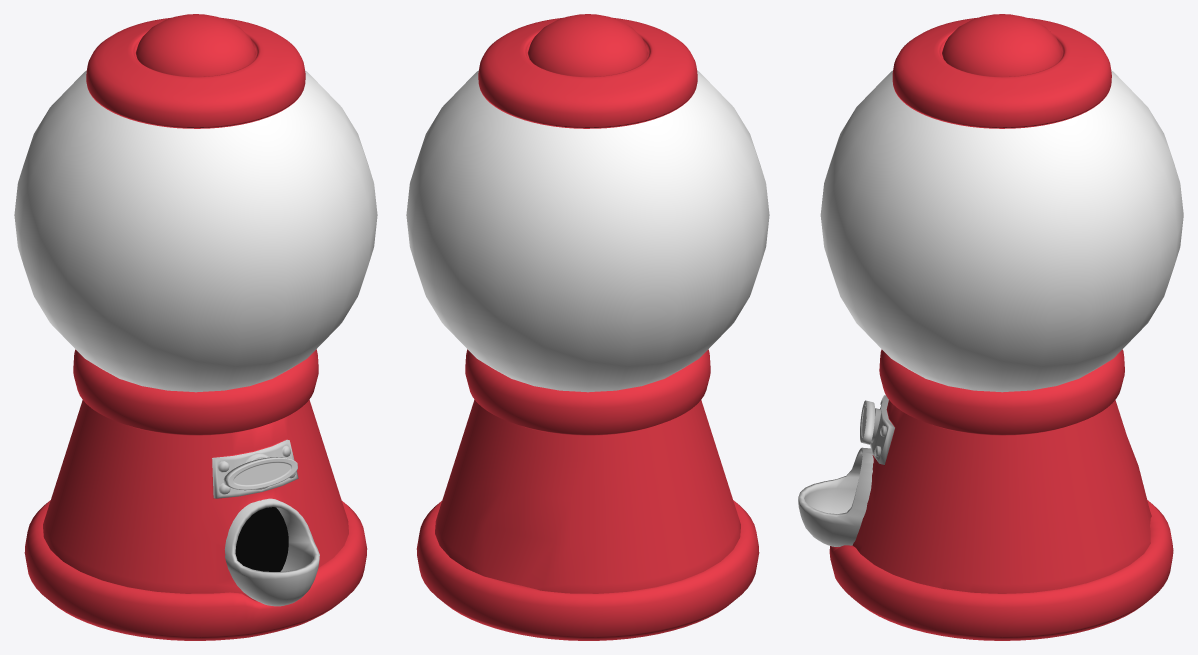
The model's file is gumball.glb.
3 renders of one model, left to right at view 1: azimuth 30°, elevation 25°; view 2: azimuth 150°, elevation 25°; view 3: azimuth 270°, elevation 25°, orthographic.
Visible parts, largest first — view 1: Globe, Body, TopCap, Base, Hopper, Billboard, Plane, CoinMesh; view 2: Globe, Body, TopCap, Base, Hopper; view 3: Globe, Body, TopCap, Base, Hopper, Billboard, CoinMesh.
Part boxes in pixels (x1,y1,x2,y2): Globe: (14, 70, 377, 392); Body: (43, 399, 348, 600); TopCap: (86, 14, 305, 128); Base: (24, 500, 367, 640); Hopper: (73, 349, 318, 435); Billboard: (224, 498, 319, 606); Plane: (235, 507, 288, 571); CoinMesh: (223, 457, 297, 490); Globe: (406, 70, 769, 392); Body: (435, 399, 740, 593); TopCap: (478, 14, 697, 128); Base: (416, 500, 759, 640); Hopper: (465, 349, 710, 435); Globe: (820, 70, 1183, 392); Body: (852, 395, 1151, 593); TopCap: (892, 14, 1111, 128); Base: (829, 500, 1173, 640); Hopper: (879, 349, 1124, 435); Billboard: (798, 447, 873, 546); CoinMesh: (860, 400, 874, 444).
Size of the model in its own units: 2 by 3.35 by 2.12.
